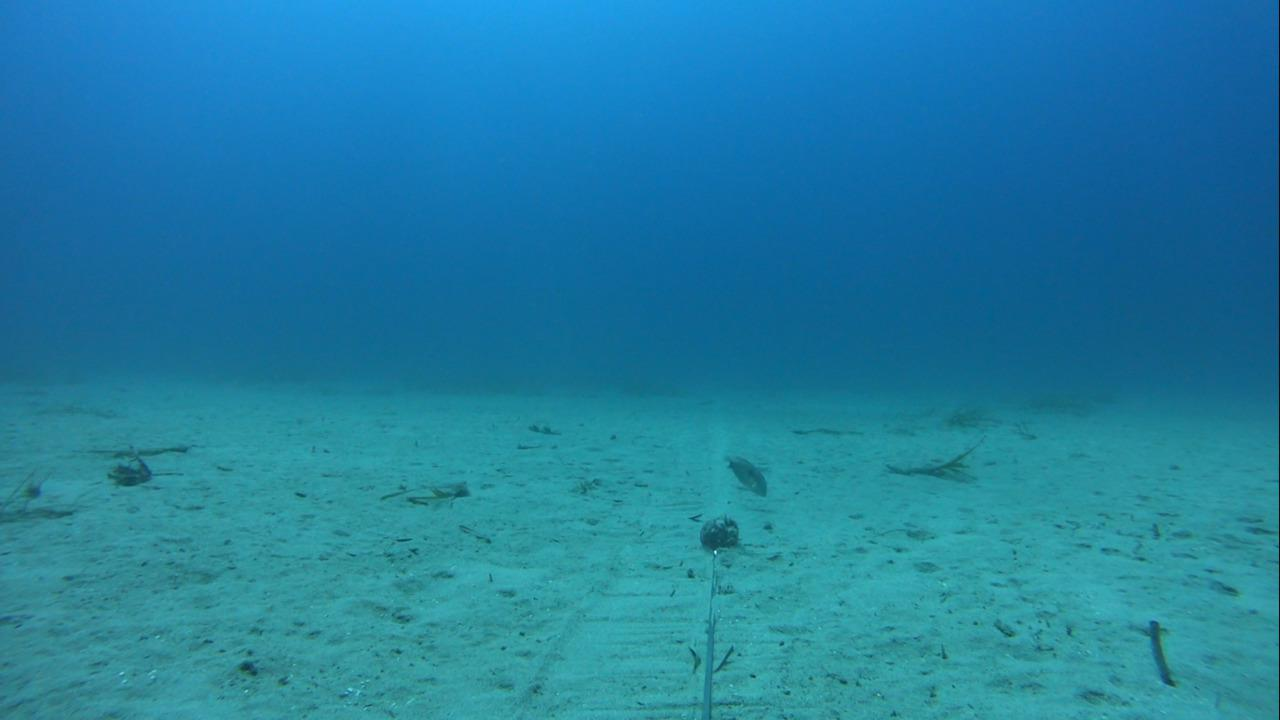raor: (712, 447, 769, 498)
